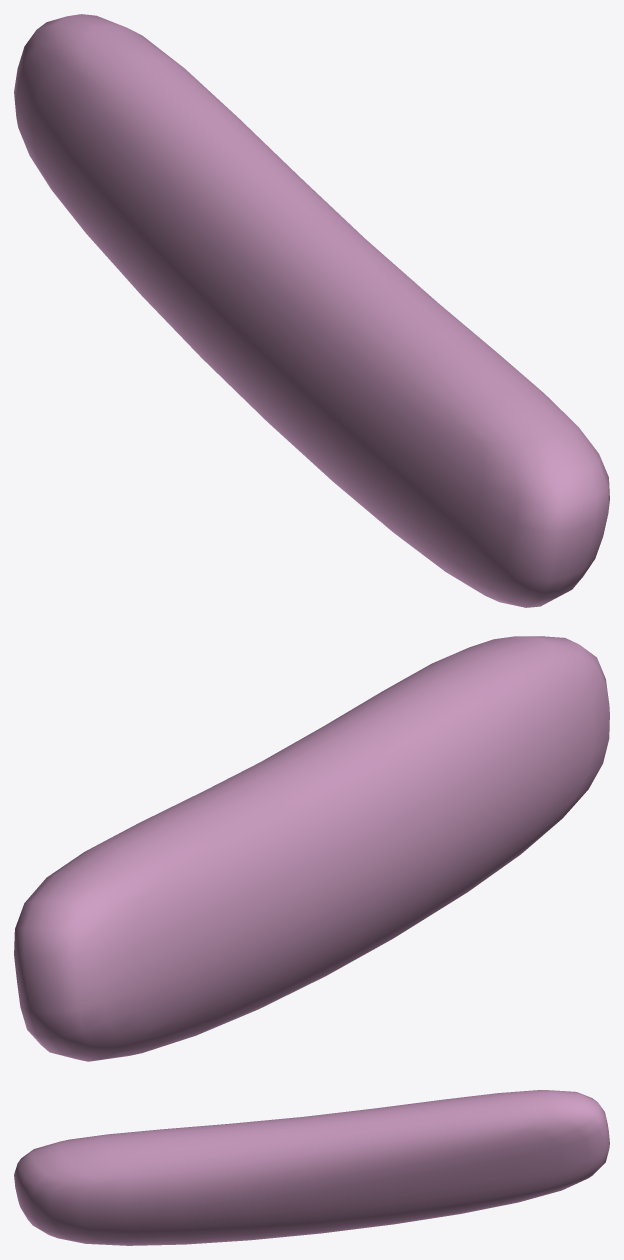
3 views of the same model, one above another, from view 1: azimuth 30°, elevation 25°; view 2: azimuth 150°, elevation 25°; view 3: azimuth 270°, elevation 25° (orthographic). The views are drawn at different scales.
Parts seen in each view (by area): view 1: 左侧动眼神经副核; view 2: 左侧动眼神经副核; view 3: 左侧动眼神经副核.
Part boxes in pixels (x1,y1,x2,y2): 左侧动眼神经副核: [14, 14, 609, 607]; 左侧动眼神经副核: [14, 636, 609, 1061]; 左侧动眼神经副核: [14, 1090, 609, 1245].
Bounding box in the file's own units: 0.002 × 0.00338 × 0.0121.
